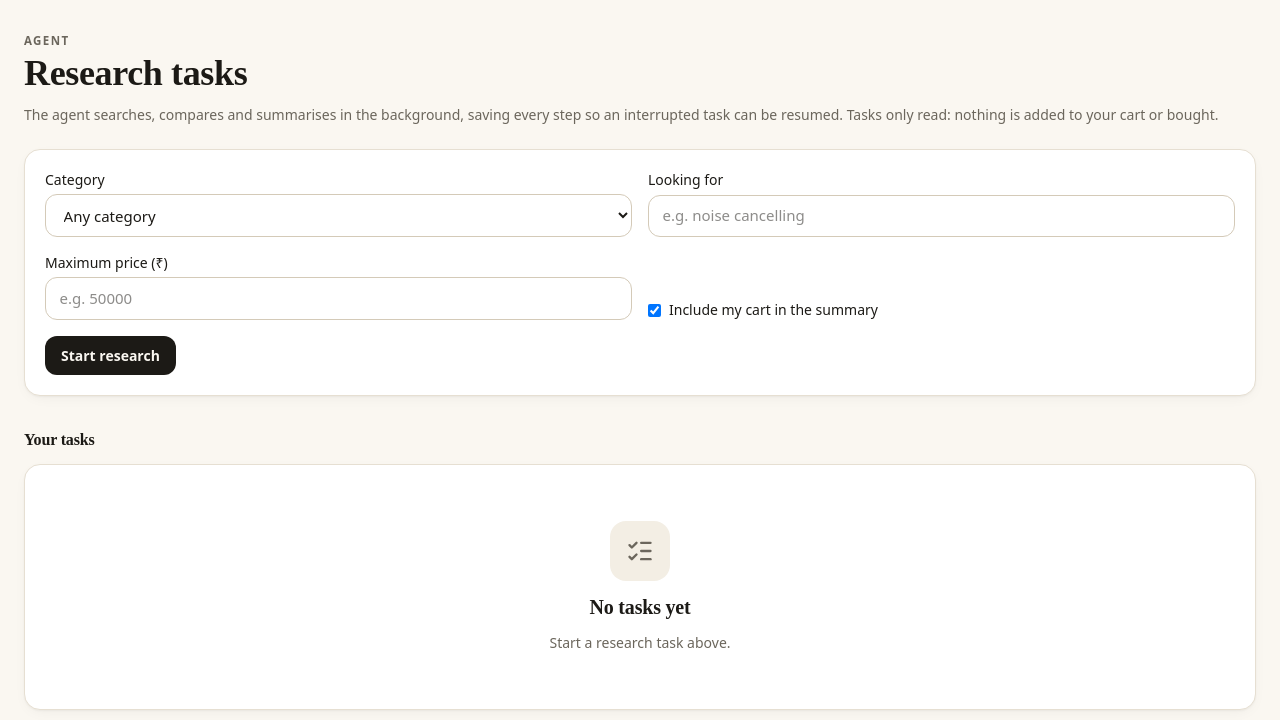
Test: TasksPage › validates the form before sending anything
Click the button "Start research" at [110, 355], box [45,336,176,375]
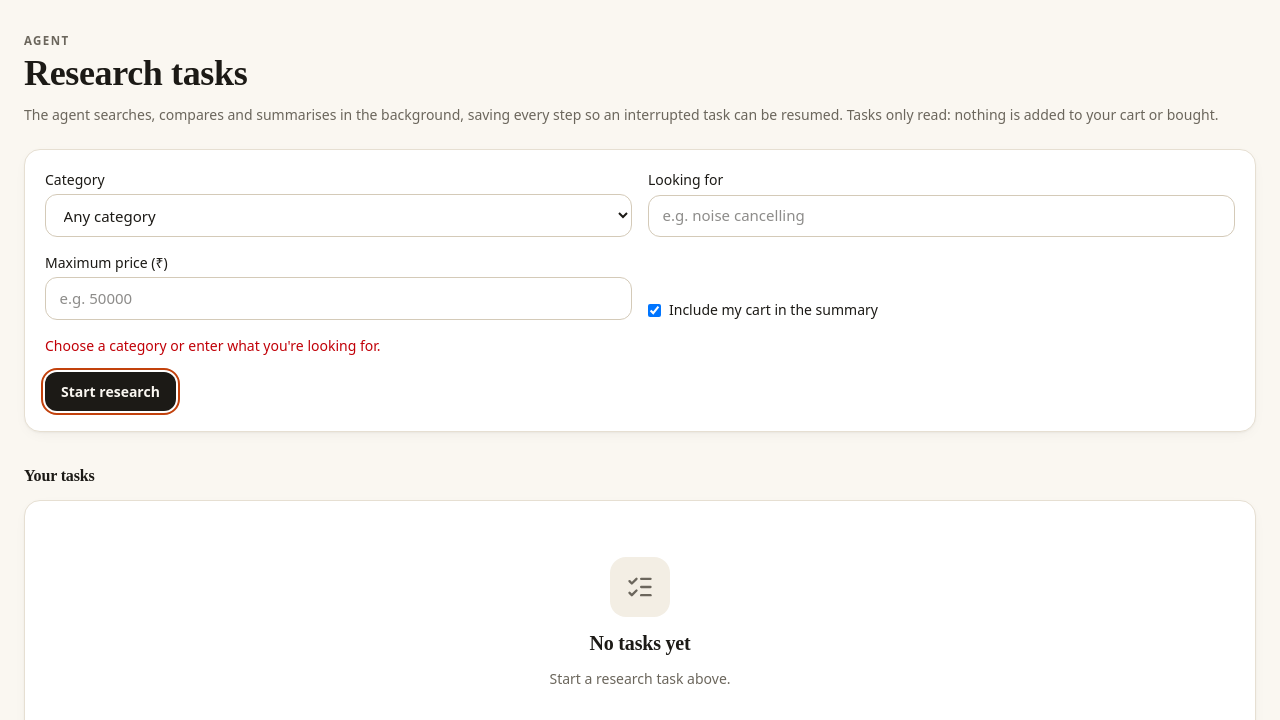
Expected: the message shows "Choose a category", [45,336,380,355]
Type "laptop" into the field labelled "Looking for" at [942, 216], box [648,194,1235,237]
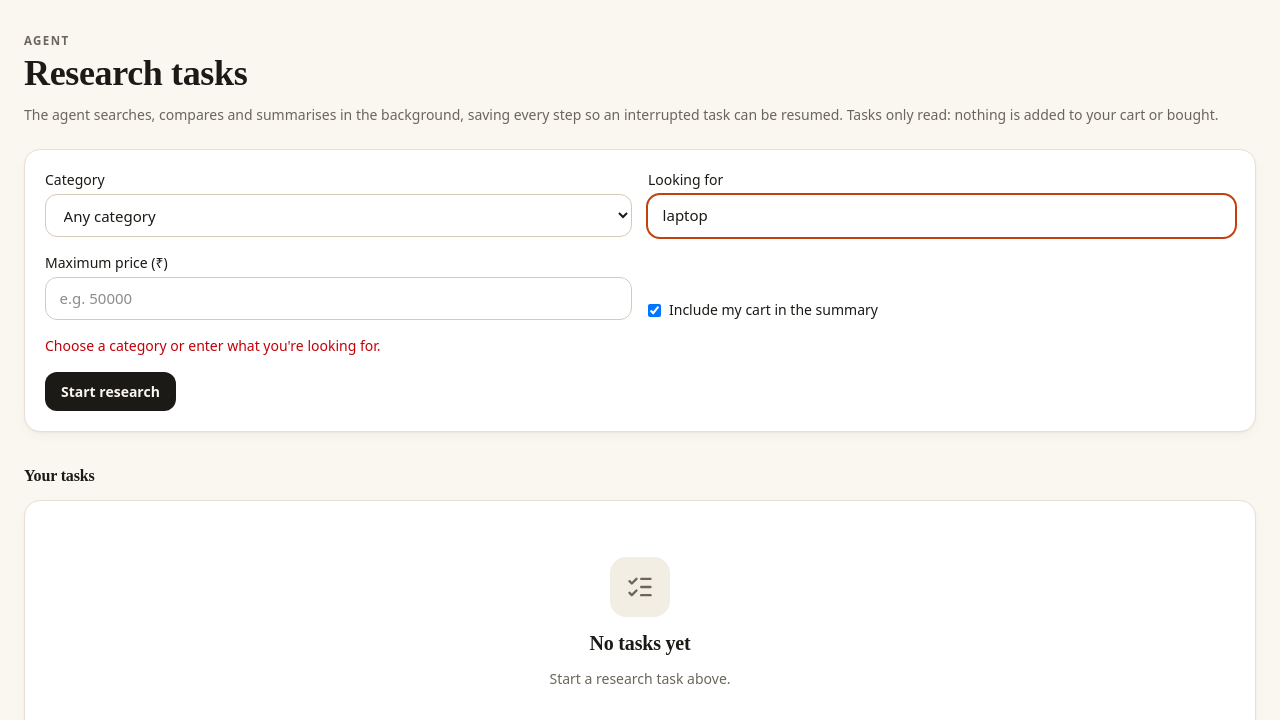
Type "50k" into the field labelled "Maximum price (₹)" at [338, 299], box [45,278,632,320]
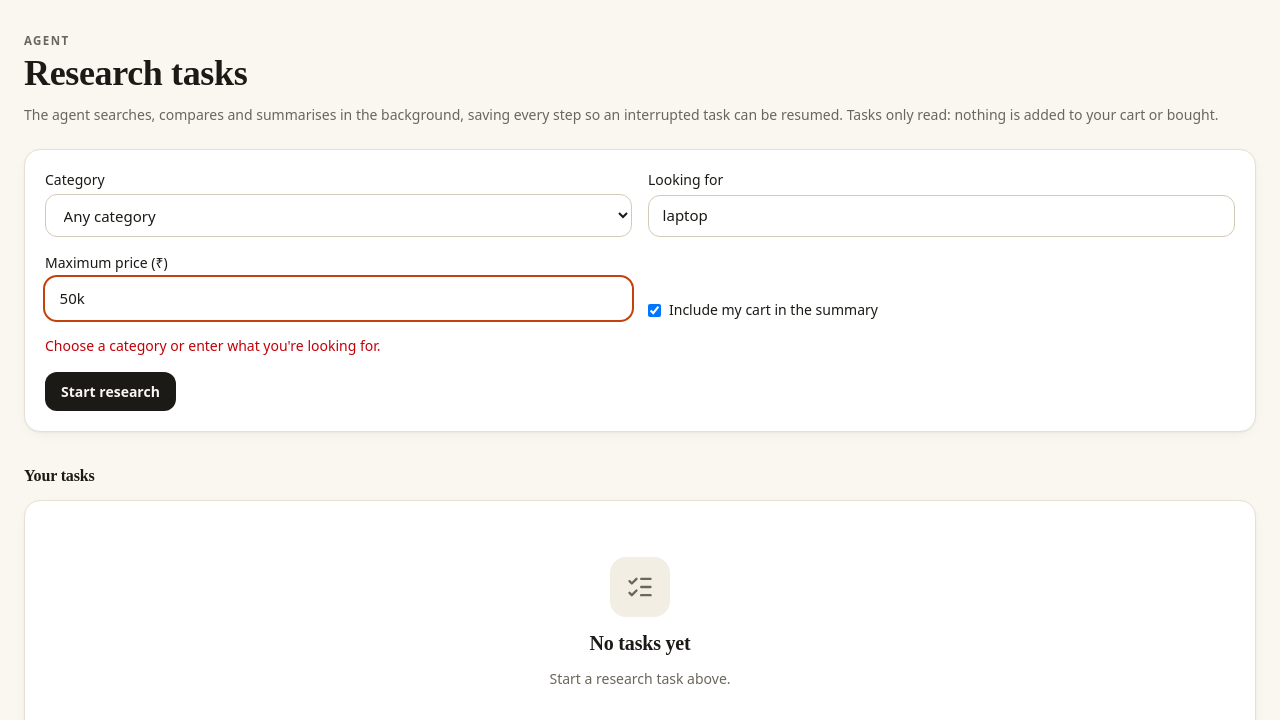
Click the button "Start research" at [110, 391], box [45,372,176,411]
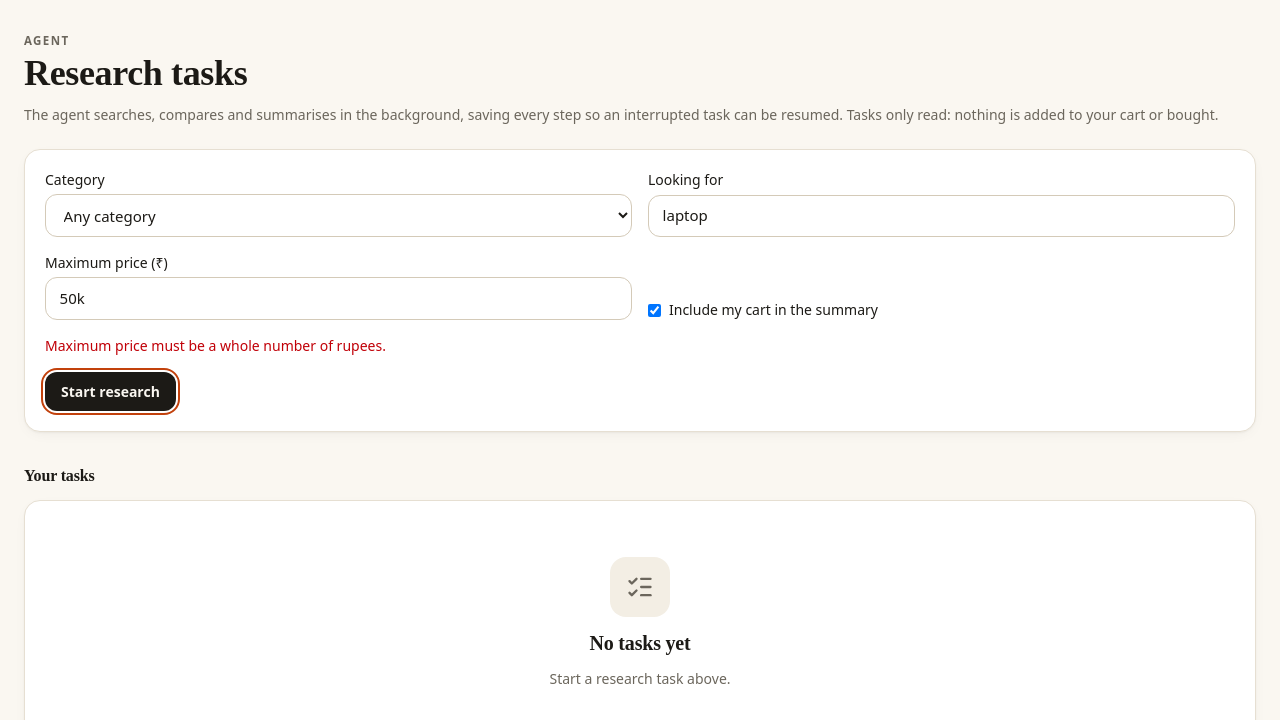
Expected: the message shows "whole number", [45,336,386,355]
